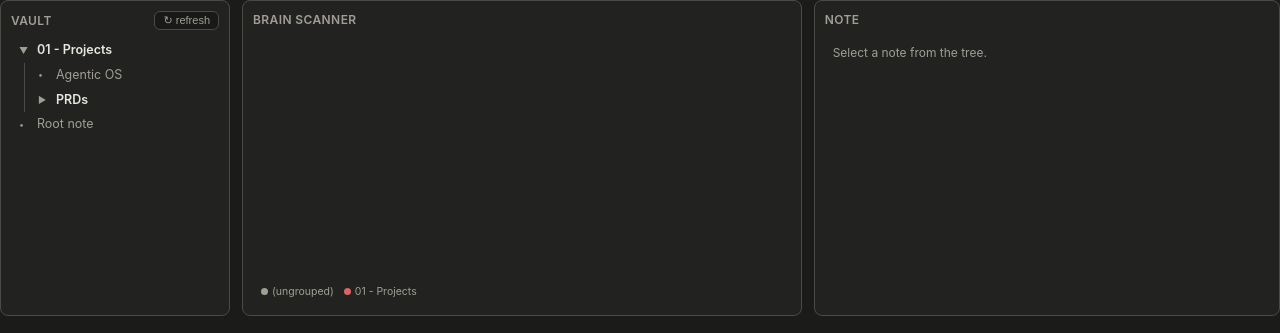
it: BrainScannerView › clicking a file fetches the note with an encodeURIComponent'd path and opens the reader
This screenshot has width=1280, height=333.
Expected: the element with test id "vault-tree" is shown, [11,38,219,137]
What coordinates should you click on to do the following:
click the element with test id "vt-file-01 - Projects/Agentic OS.md"
I would click on:
 (80, 74)
Its box is [38,67,122,82].
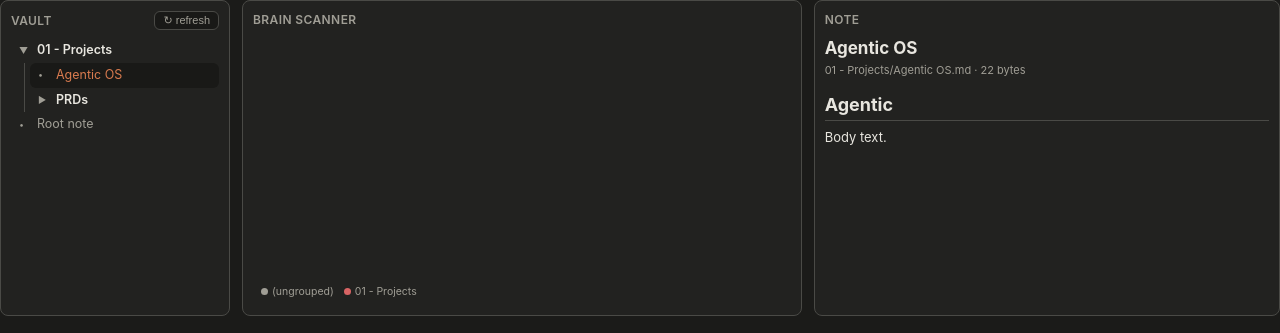
Expected: the element with test id "note-reader" is shown, [825,36,1269,149]
